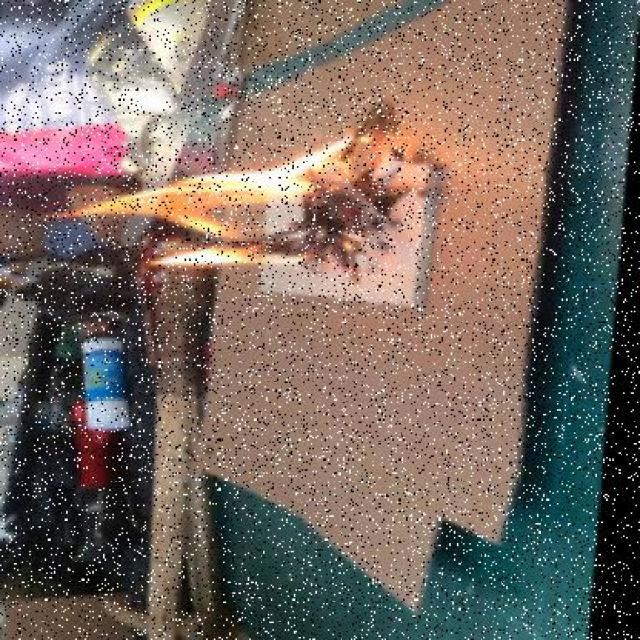fire: (52, 111, 415, 303)
